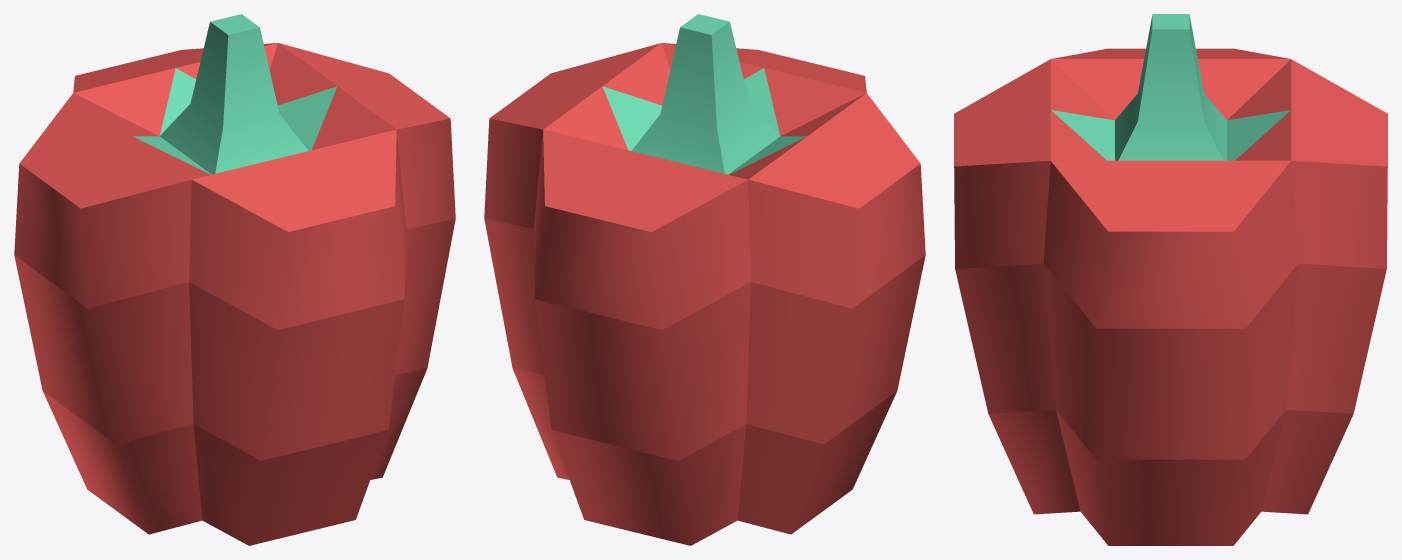
File: paprika.obj
3 renders of one model, left to right at view 1: azimuth 30°, elevation 25°; view 2: azimuth 150°, elevation 25°; view 3: azimuth 270°, elevation 25°, orthographic.
Parts seen in each view (by area): view 1: paprika; view 2: paprika; view 3: paprika.
Part boxes in pixels (bbox=[...]): paprika: bbox=[14, 14, 455, 545]; paprika: bbox=[484, 14, 925, 545]; paprika: bbox=[954, 14, 1387, 545].
Size of the model in its own units: 0.1681 by 0.1993 by 0.1681.
